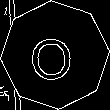O_N: (32, 28, 78, 82)
